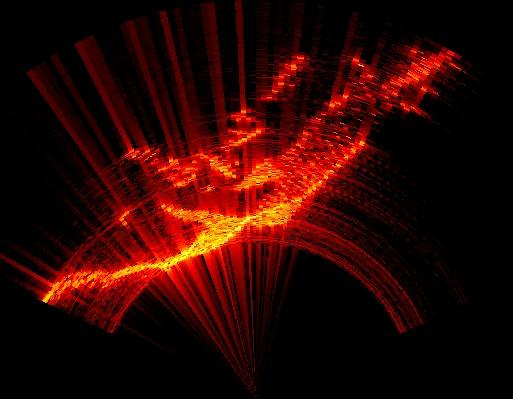shipwreck: (43, 128, 369, 302), (159, 152, 234, 186), (232, 158, 292, 191), (221, 123, 264, 152)
